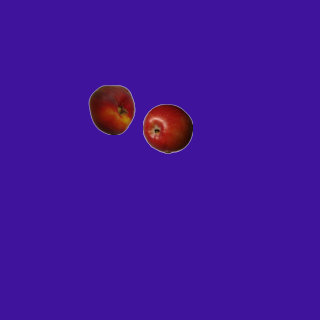Apple Braeburn: (142, 103, 192, 153)
Nectarine Flat: (86, 84, 136, 134)
